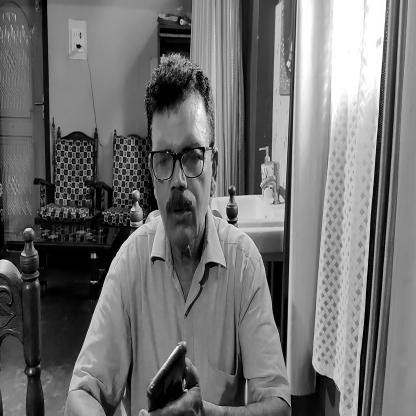Normal: (143, 53, 215, 254)
